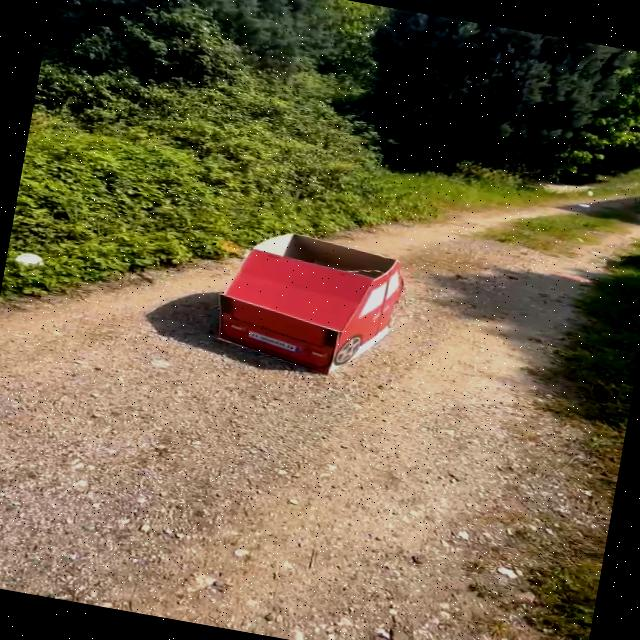red_car: (187, 212, 430, 410)
